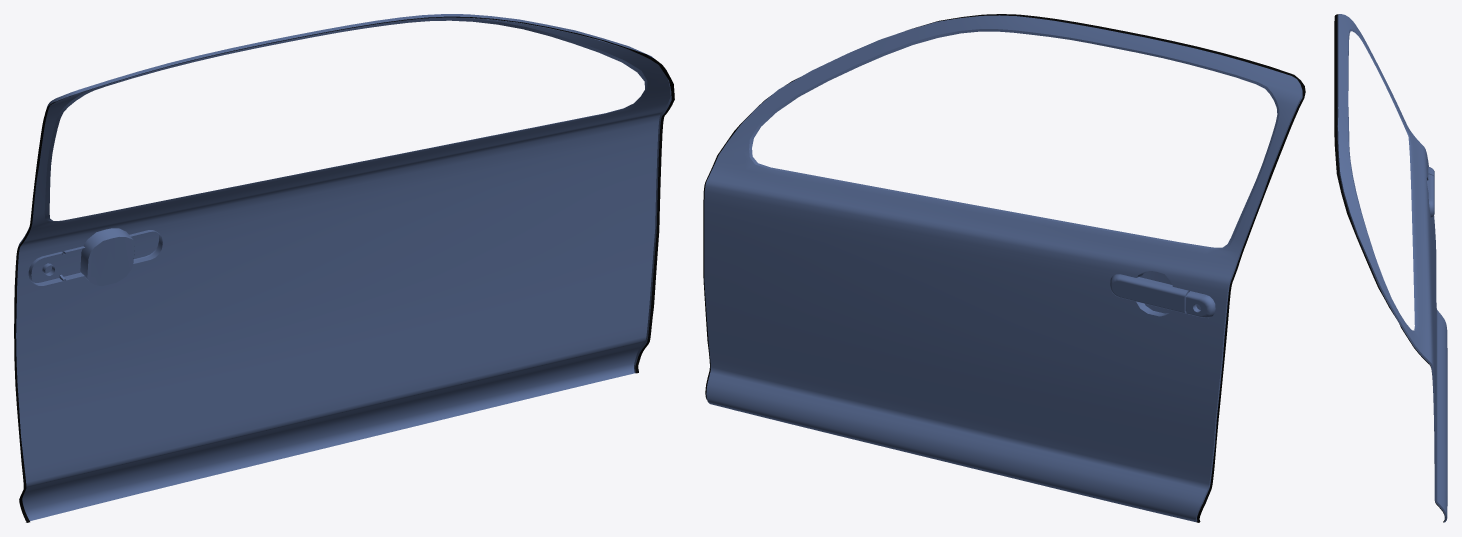
The picture shows the model from 3 angles, left to right: view 1: azimuth 30°, elevation 25°; view 2: azimuth 150°, elevation 25°; view 3: azimuth 270°, elevation 25°; orthographic projection. The views are drawn at different scales.
Parts seen in each view (by area): view 1: U236_17_261B_L_U236_17_261B_L_2_DaS, U236_17_261B_L_U236_17_261B_L_2_DaS_E, U236_17_261B_L_3_D_U236_17_261B_L, U236_17_261B_L_U236_17_261B_L_1_DaS; view 2: U236_17_261B_L_U236_17_261B_L_2_DaS, U236_17_261B_L_U236_17_261B_L_2_DaS_E, U236_17_261B_L_3_D_U236_17_261B_L, U236_17_261B_L_U236_17_261B_L_1_DaS; view 3: U236_17_261B_L_U236_17_261B_L_2_DaS, U236_17_261B_L_U236_17_261B_L_2_DaS_E, U236_17_261B_L_3_D_U236_17_261B_L, U236_17_261B_L_U236_17_261B_L_1_DaS.
Part boxes in pixels (x1,y1,x2,y2): U236_17_261B_L_U236_17_261B_L_2_DaS: (16,17,670,520); U236_17_261B_L_U236_17_261B_L_2_DaS_E: (18,14,671,373); U236_17_261B_L_3_D_U236_17_261B_L: (14,16,674,522); U236_17_261B_L_U236_17_261B_L_1_DaS: (28,230,162,285); U236_17_261B_L_U236_17_261B_L_2_DaS: (704,15,1302,521); U236_17_261B_L_U236_17_261B_L_2_DaS_E: (749,29,1302,521); U236_17_261B_L_3_D_U236_17_261B_L: (703,14,1305,522); U236_17_261B_L_U236_17_261B_L_1_DaS: (1110,274,1215,318); U236_17_261B_L_U236_17_261B_L_2_DaS: (1338,14,1447,519); U236_17_261B_L_U236_17_261B_L_2_DaS_E: (1337,14,1447,522); U236_17_261B_L_3_D_U236_17_261B_L: (1334,14,1445,522); U236_17_261B_L_U236_17_261B_L_1_DaS: (1427,167,1434,217).
Size of the model in its own units: 150 by 107 by 34.79.
